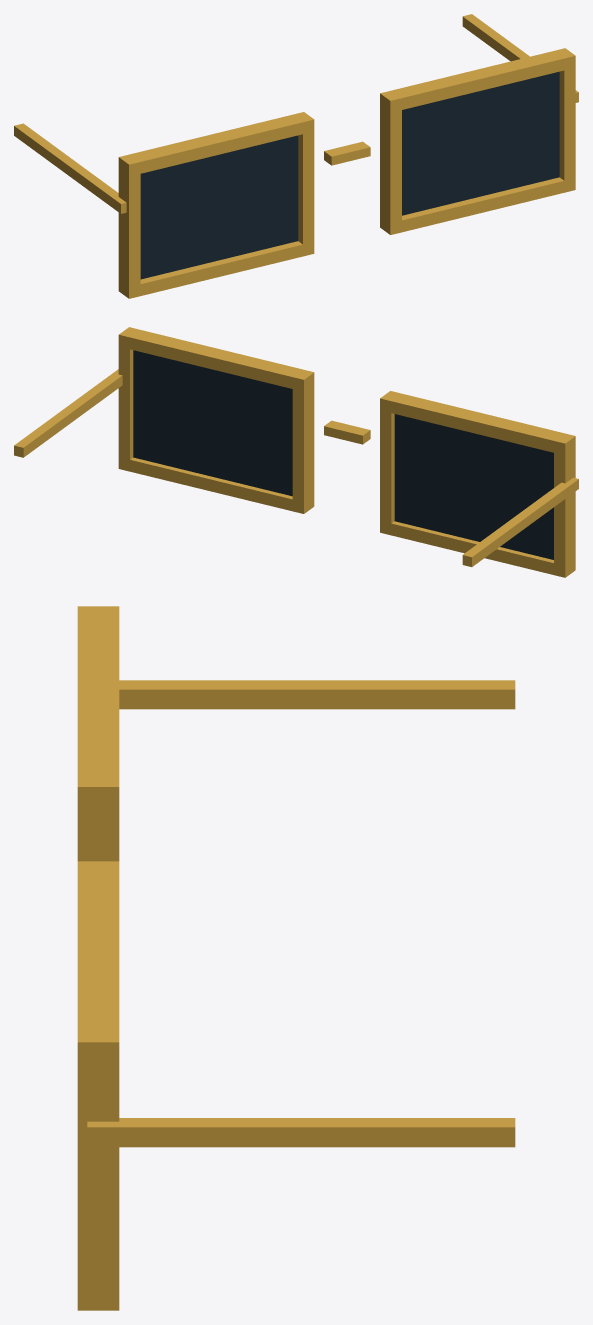
Rendered from glasses.glb.
3 views of the same model, one above another, from view 1: azimuth 30°, elevation 25°; view 2: azimuth 150°, elevation 25°; view 3: azimuth 270°, elevation 25° (orthographic). The views are drawn at different scales.
Visible parts, largest first — view 1: square-frames, left-lens, right-lens, left-temple, right-temple, bridge; view 2: square-frames, right-lens, left-lens, left-temple, right-temple, bridge; view 3: square-frames, right-temple, left-temple.
Boxes of the visible parts, bbox=[...] form: square-frames: bbox=[118, 48, 575, 298]; left-lens: bbox=[140, 135, 298, 279]; right-lens: bbox=[402, 71, 559, 215]; left-temple: bbox=[14, 123, 126, 213]; right-temple: bbox=[462, 14, 578, 102]; bridge: bbox=[324, 141, 370, 165]; square-frames: bbox=[118, 327, 575, 577]; right-lens: bbox=[133, 350, 292, 496]; left-lens: bbox=[394, 414, 553, 559]; left-temple: bbox=[462, 477, 578, 566]; right-temple: bbox=[14, 369, 122, 457]; bridge: bbox=[324, 420, 370, 444]; square-frames: bbox=[77, 606, 119, 1310]; right-temple: bbox=[87, 1118, 515, 1147]; left-temple: bbox=[119, 680, 515, 709].
Bounding box in the file's own units: 9.64 × 2.7 × 3.99.
